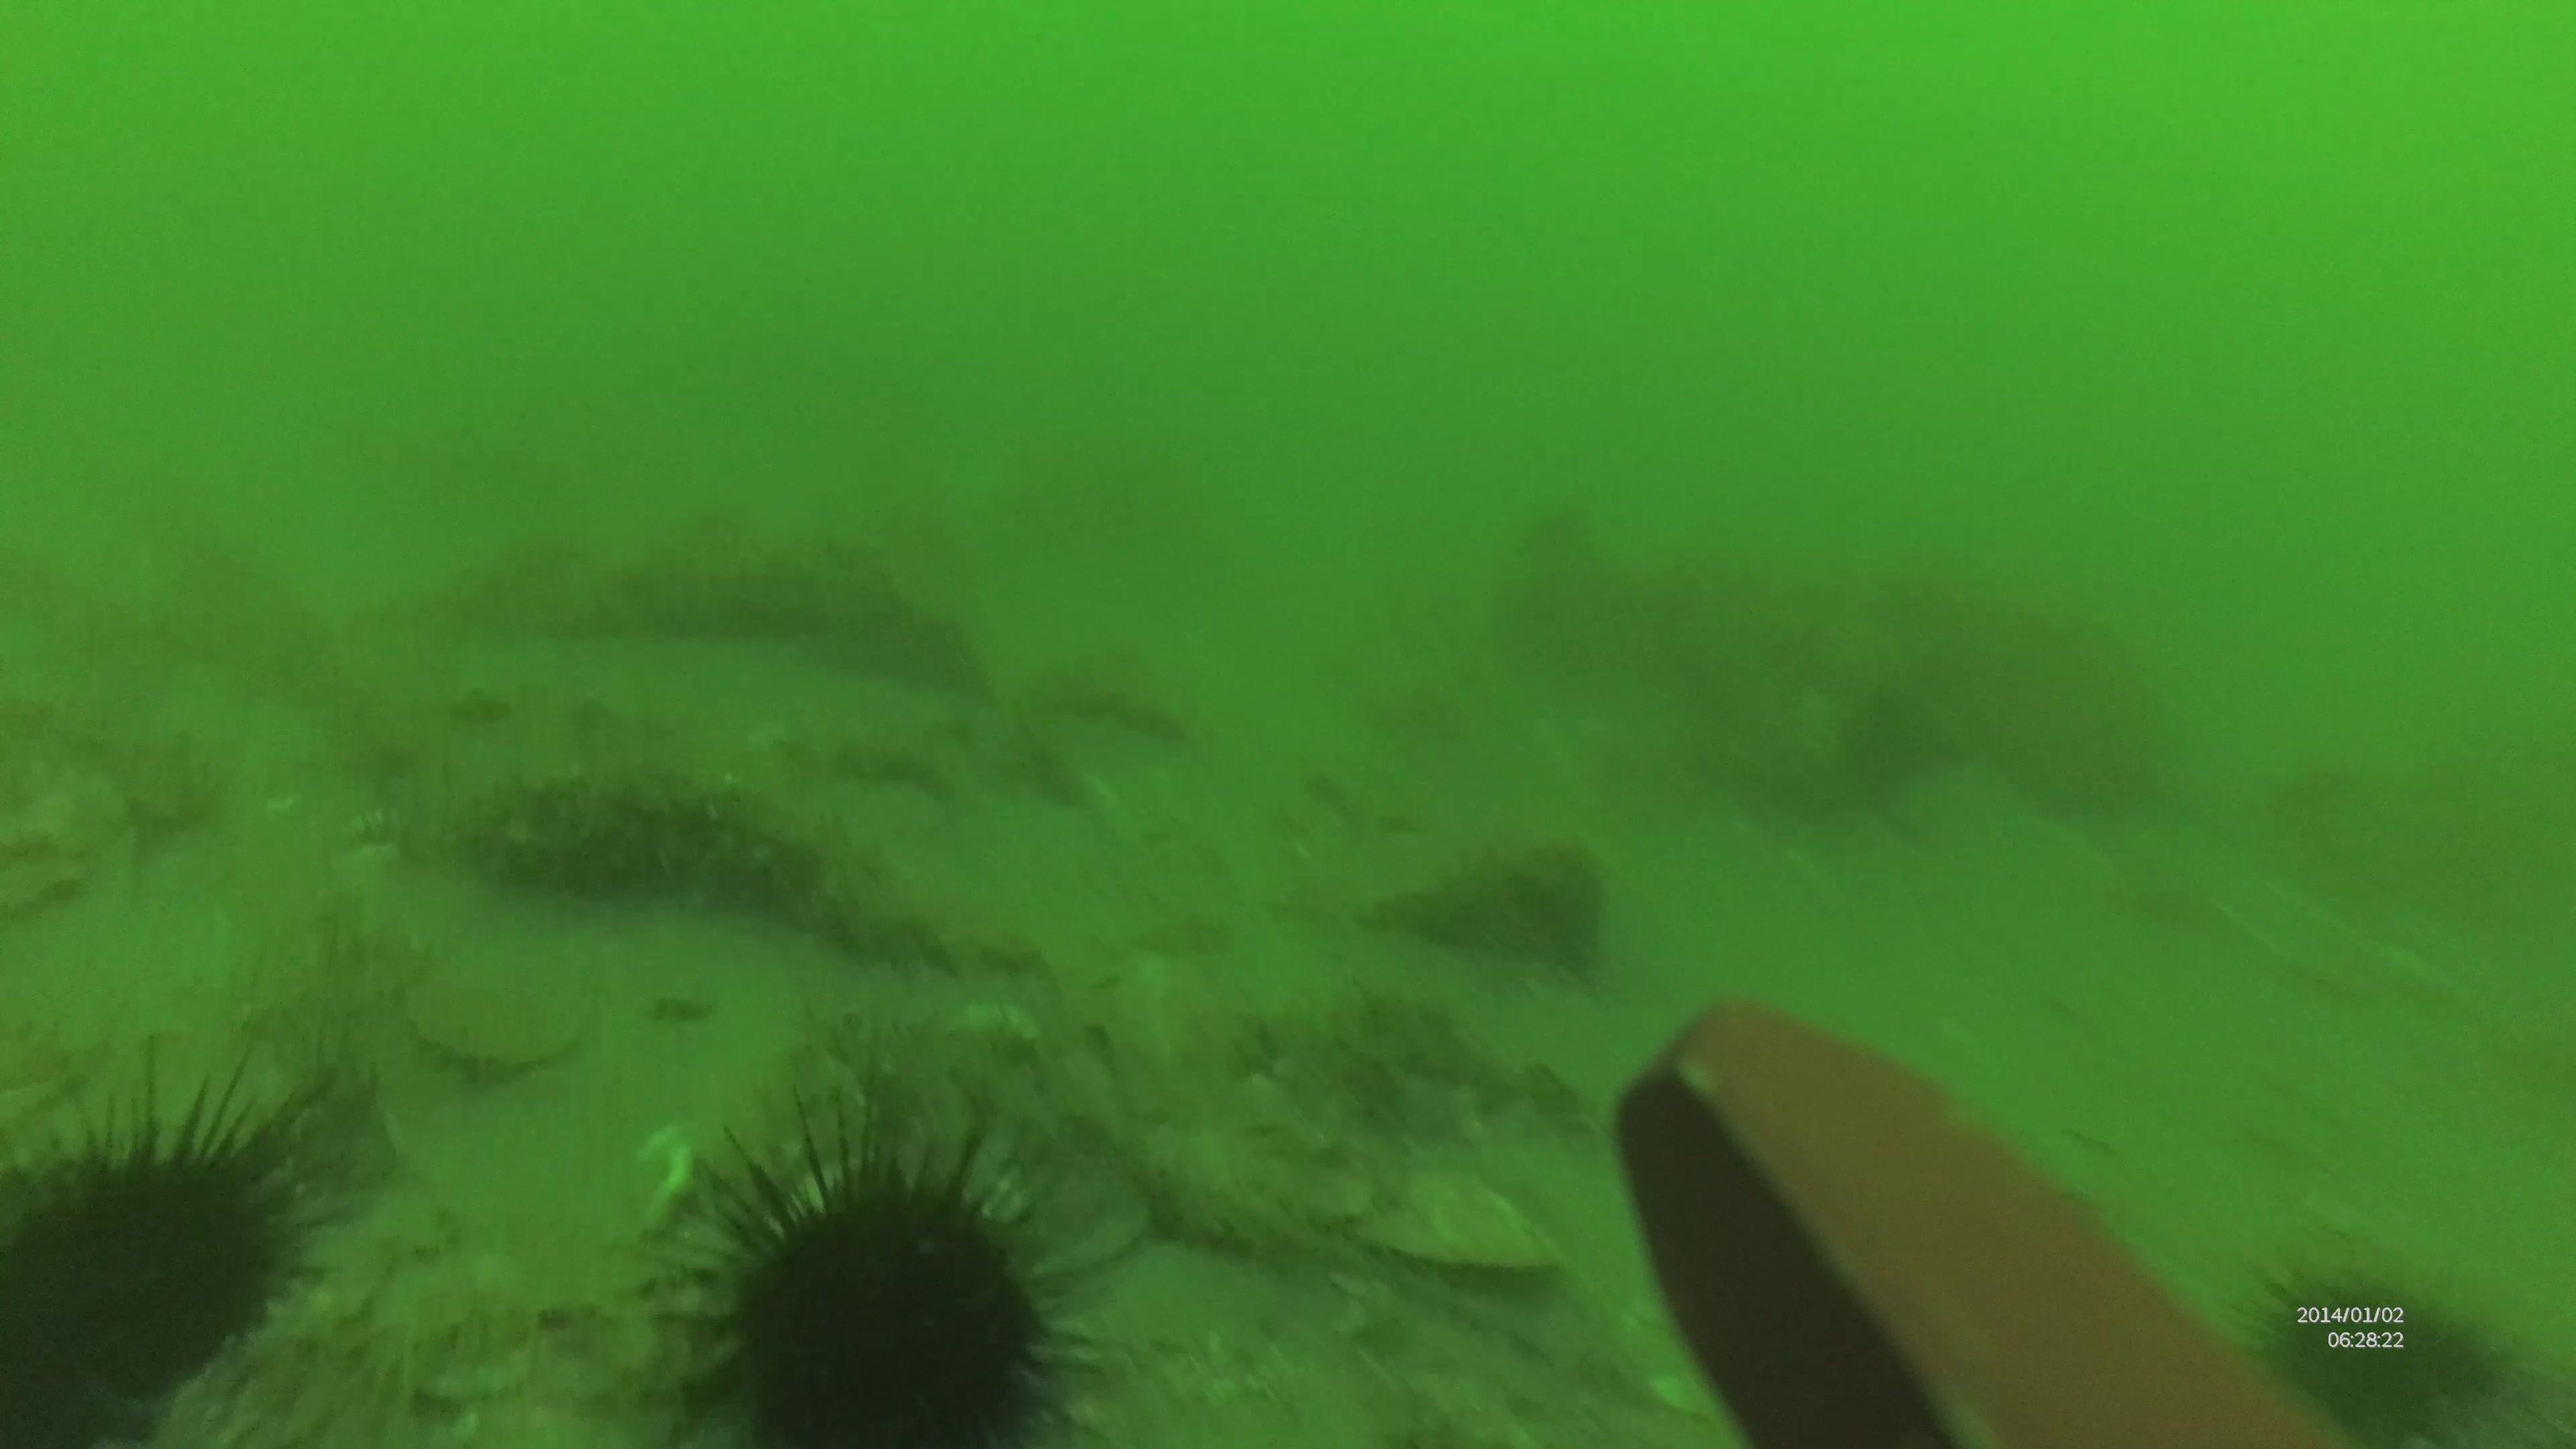echinus: (635, 1085, 1125, 1445), (0, 1047, 357, 1435), (2238, 1247, 2519, 1440)
holothurian: (483, 764, 991, 975)
scallop: (403, 932, 594, 1074)
